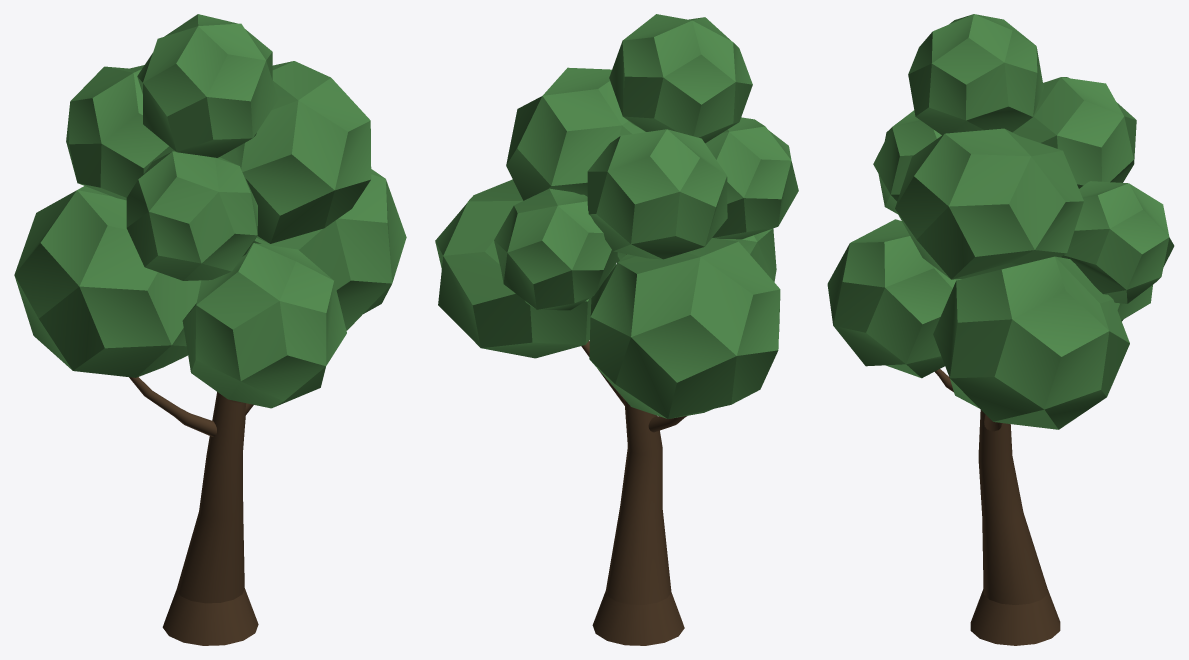
Rendered from Tree02.fbx.
The picture shows the model from 3 angles, left to right: view 1: azimuth 30°, elevation 25°; view 2: azimuth 150°, elevation 25°; view 3: azimuth 270°, elevation 25°; orthographic projection. The views are drawn at different scales.
Parts seen in each view (by area): view 1: pPlatonic13, pCylinder9; view 2: pPlatonic13, pCylinder9; view 3: pPlatonic13, pCylinder9.
Boxes of the visible parts, x1,y1,x2,y2 form: pPlatonic13: (14, 14, 406, 408); pCylinder9: (129, 377, 258, 645); pPlatonic13: (435, 14, 798, 418); pCylinder9: (581, 254, 686, 645); pPlatonic13: (827, 14, 1174, 429); pCylinder9: (935, 369, 1060, 645).
Size of the model in its own units: 2.01 by 3.46 by 1.82.
